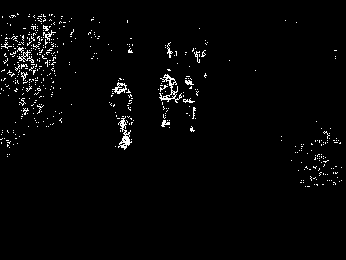person: (107, 77, 138, 150), (183, 76, 202, 135), (158, 67, 173, 129)
